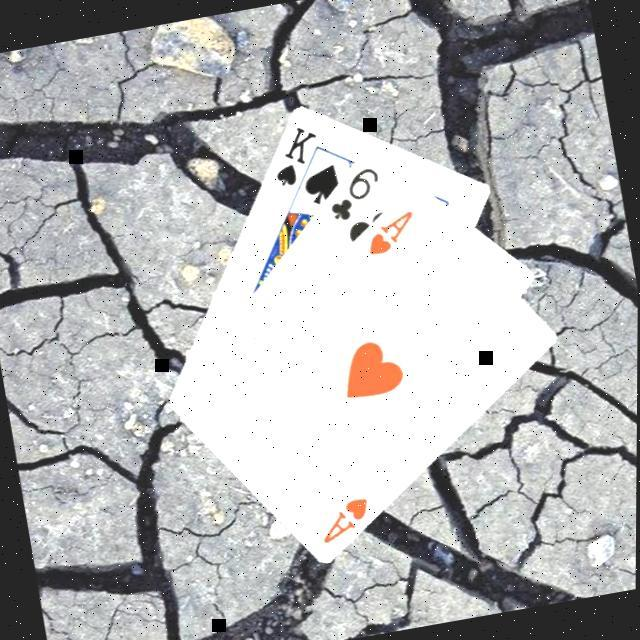6C: (322, 159, 390, 223)
AH: (314, 489, 379, 545), (361, 202, 424, 257)
KS: (264, 117, 328, 189)
